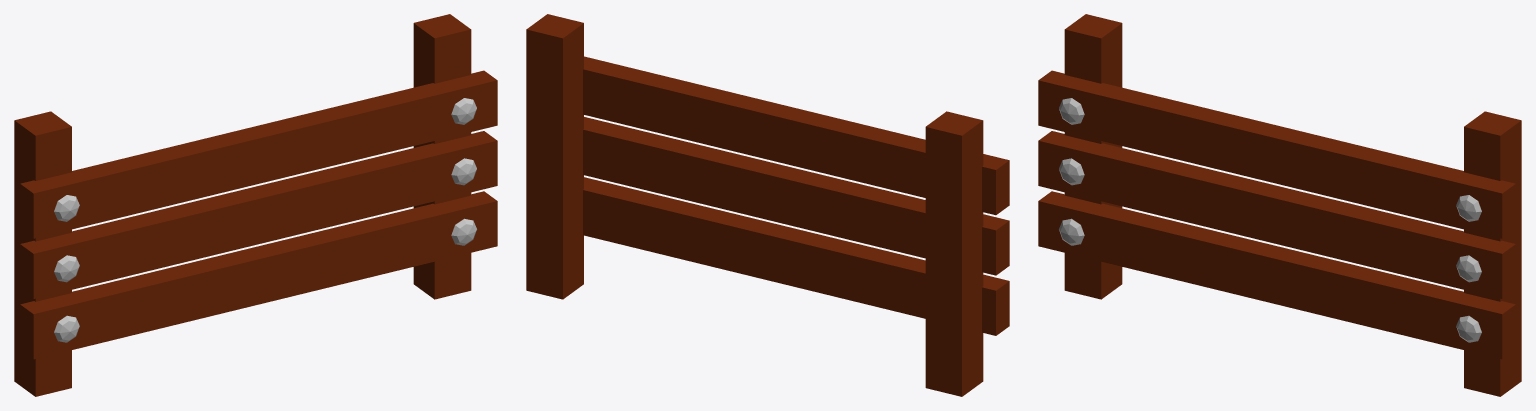
The model's file is 3_plank_3.FBX.
The picture shows the model from 3 angles, left to right: view 1: azimuth 30°, elevation 25°; view 2: azimuth 150°, elevation 25°; view 3: azimuth 330°, elevation 25°; orthographic projection.
Visible parts, largest first — view 1: 3_plank_3; view 2: 3_plank_3; view 3: 3_plank_3.
Part boxes in pixels (x1,y1,x2,y2): 3_plank_3: (14, 14, 497, 396); 3_plank_3: (526, 14, 1009, 396); 3_plank_3: (1038, 14, 1521, 396).
Bounding box in the file's own units: 1.35 × 0.7267 × 0.1854.
1 material, 1 textured.
